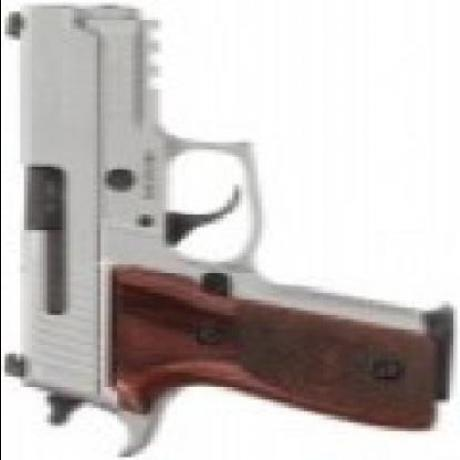weapon: (5, 4, 444, 442)
